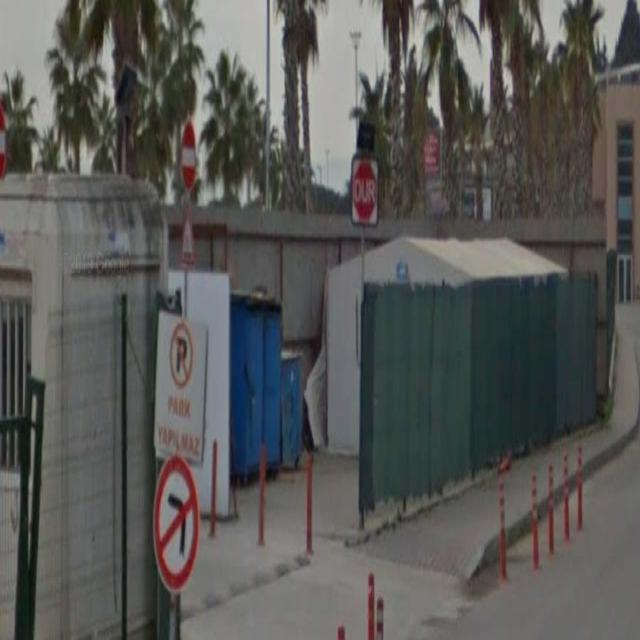dur: (354, 162, 376, 222)
girisyok: (180, 124, 198, 190)
soladonulmez: (152, 455, 200, 596)
